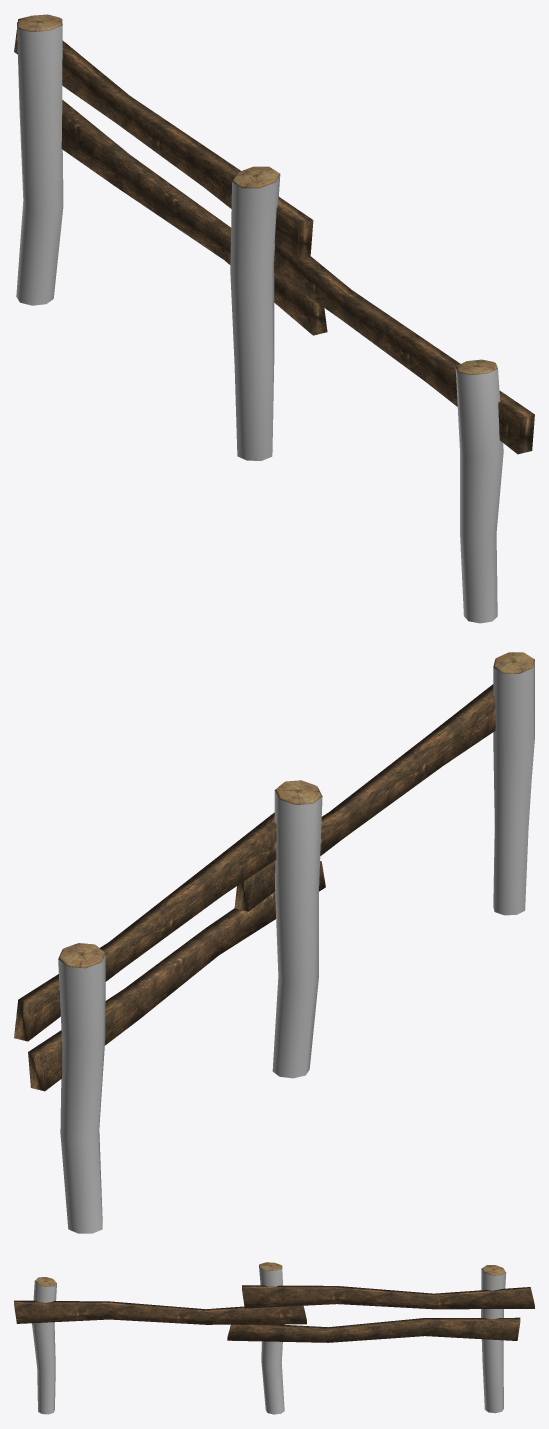
3 renders of one model, top to bottom at view 1: azimuth 30°, elevation 25°; view 2: azimuth 150°, elevation 25°; view 3: azimuth 270°, elevation 25°, orthographic. The views are drawn at different scales.
Parts seen in each view (by area): view 1: saku00_saku00Shape.002; view 2: saku00_saku00Shape.002; view 3: saku00_saku00Shape.002.
Boxes of the visible parts, x1,y1,x2,y2 form: saku00_saku00Shape.002: [14, 14, 534, 623]; saku00_saku00Shape.002: [14, 652, 534, 1233]; saku00_saku00Shape.002: [14, 1262, 534, 1414].
Size of the model in its own units: 0.4758 by 2.21 by 7.18.
